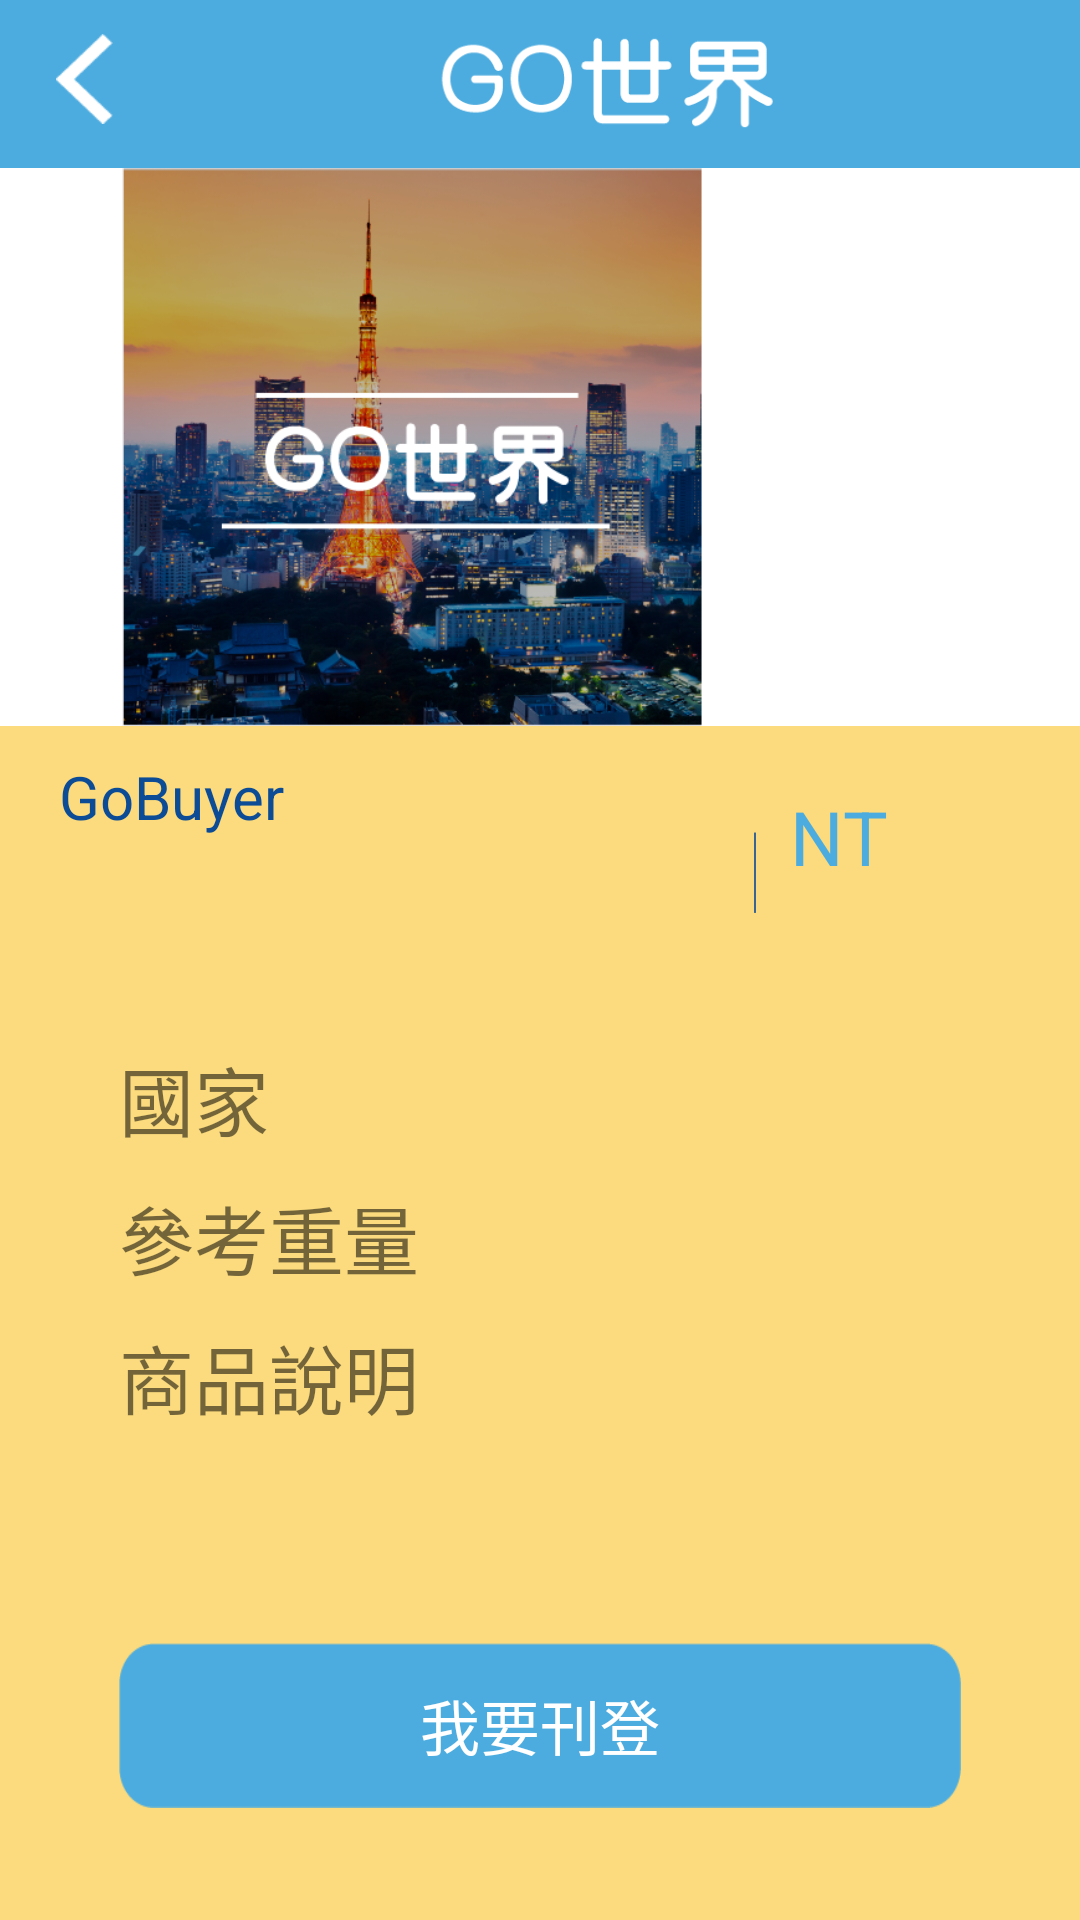

Icons on this 1080x1920 Android screen, each with the point to tap as (x,y):
backward: (84,79)
